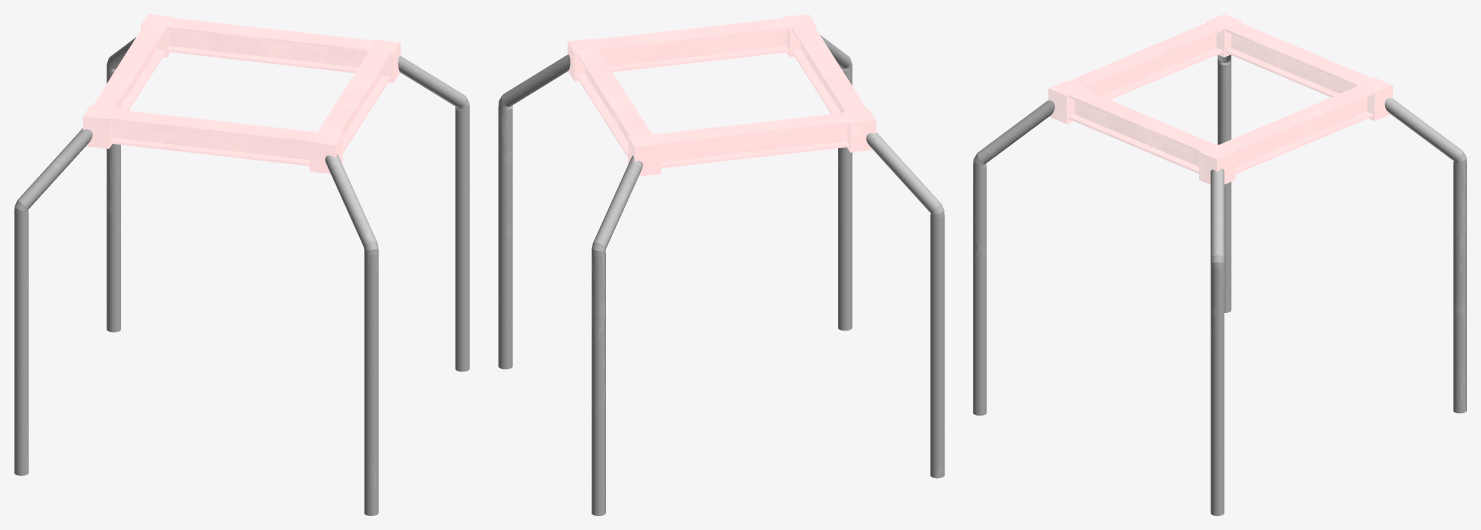
File: SteelBeam.fbx
3 views of the same model, side by side, from view 1: azimuth 30°, elevation 25°; view 2: azimuth 150°, elevation 25°; view 3: azimuth 270°, elevation 25° (orthographic). The views are drawn at different scales.
Parts seen in each view (by area): view 1: Poles; view 2: Poles; view 3: Poles.
Boxes of the visible parts, bbox=[...] form: Poles: bbox=[14, 14, 469, 515]; Poles: bbox=[498, 14, 944, 515]; Poles: bbox=[973, 14, 1466, 515].
Bounding box in the file's own units: 4614 × 3347 × 4614.
